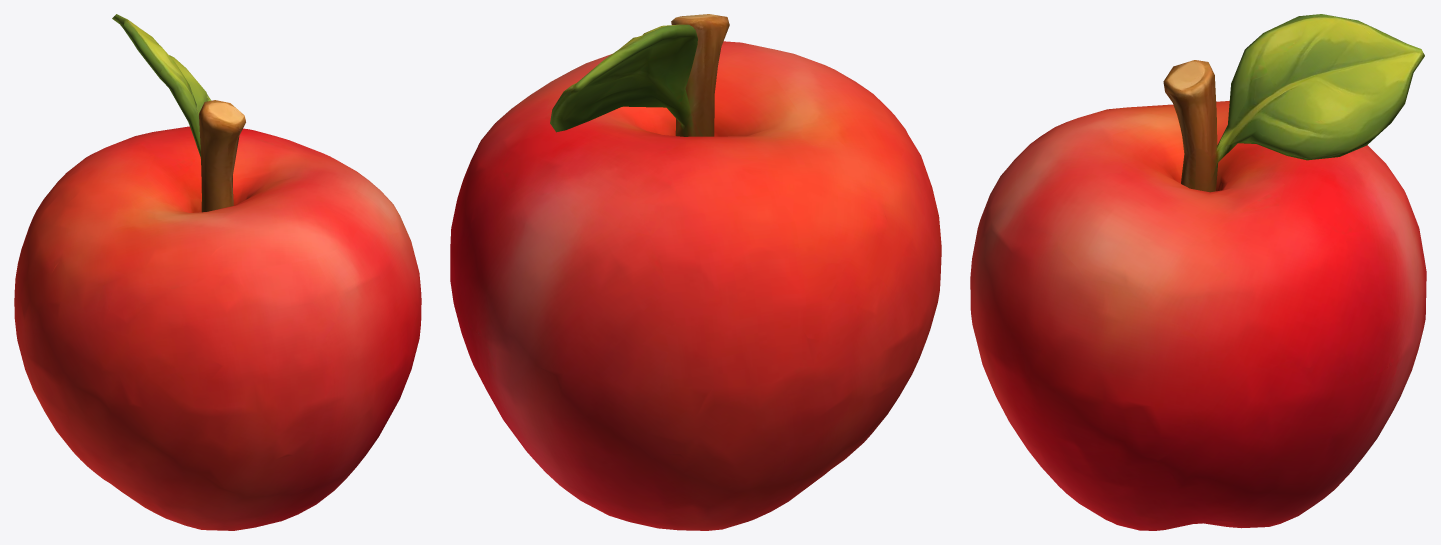
The model's file is pomme.glb.
The picture shows the model from 3 angles, left to right: view 1: azimuth 30°, elevation 25°; view 2: azimuth 150°, elevation 25°; view 3: azimuth 270°, elevation 25°; orthographic projection. The views are drawn at different scales.
Parts seen in each view (by area): view 1: tripo_node_010cefaf-bf52-47bd-bf8d-f4a541c87c09; view 2: tripo_node_010cefaf-bf52-47bd-bf8d-f4a541c87c09; view 3: tripo_node_010cefaf-bf52-47bd-bf8d-f4a541c87c09.
Boxes of the visible parts, <box> form: tripo_node_010cefaf-bf52-47bd-bf8d-f4a541c87c09: <box>14,14,421,530</box>; tripo_node_010cefaf-bf52-47bd-bf8d-f4a541c87c09: <box>450,14,941,530</box>; tripo_node_010cefaf-bf52-47bd-bf8d-f4a541c87c09: <box>970,14,1426,530</box>.
Size of the model in its own units: 0.8526 by 1 by 0.8661.
Materials: 1 (1 with a texture image).
